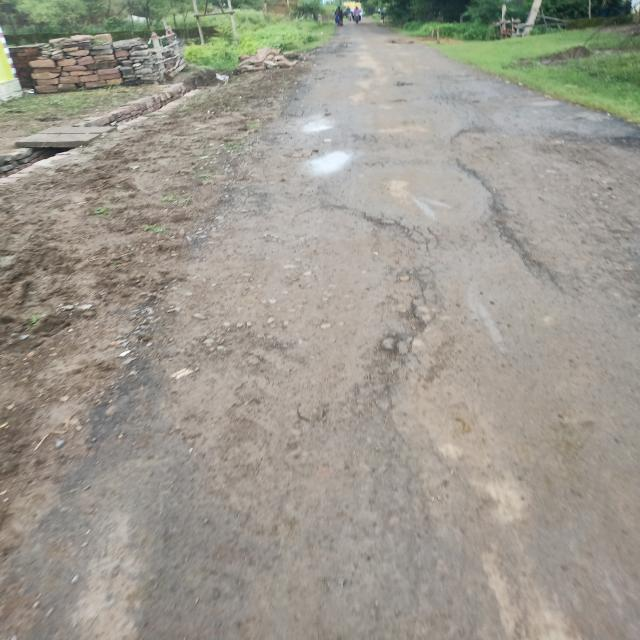potholes: (246, 200, 441, 424), (438, 122, 640, 312), (300, 147, 358, 175), (298, 111, 336, 136)
